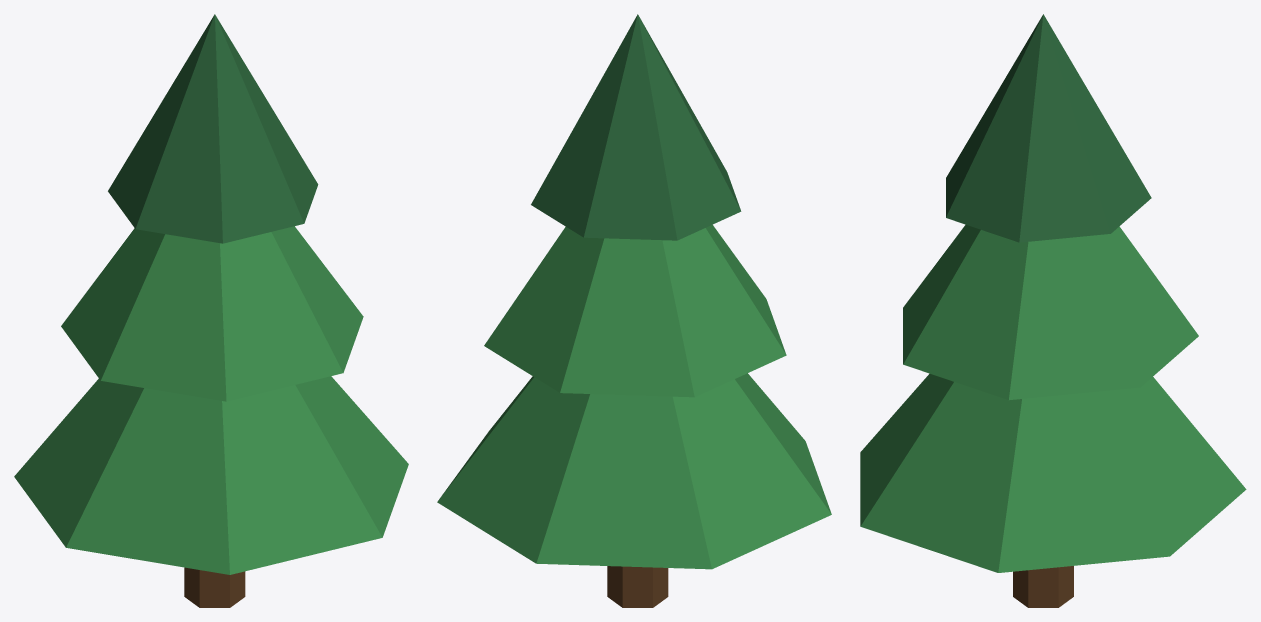
Rendered from tree_pine.glb.
3 renders of one model, left to right at view 1: azimuth 30°, elevation 25°; view 2: azimuth 150°, elevation 25°; view 3: azimuth 270°, elevation 25°, orthographic.
Parts seen in each view (by area): view 1: tree_pine; view 2: tree_pine; view 3: tree_pine.
Part boxes in pixels (bbox=[...]): tree_pine: bbox=[14, 14, 408, 607]; tree_pine: bbox=[437, 14, 831, 607]; tree_pine: bbox=[860, 14, 1246, 607].
Size of the model in its own units: 1.17 by 1.9 by 1.14.
Materials: 1 (1 with a texture image).
